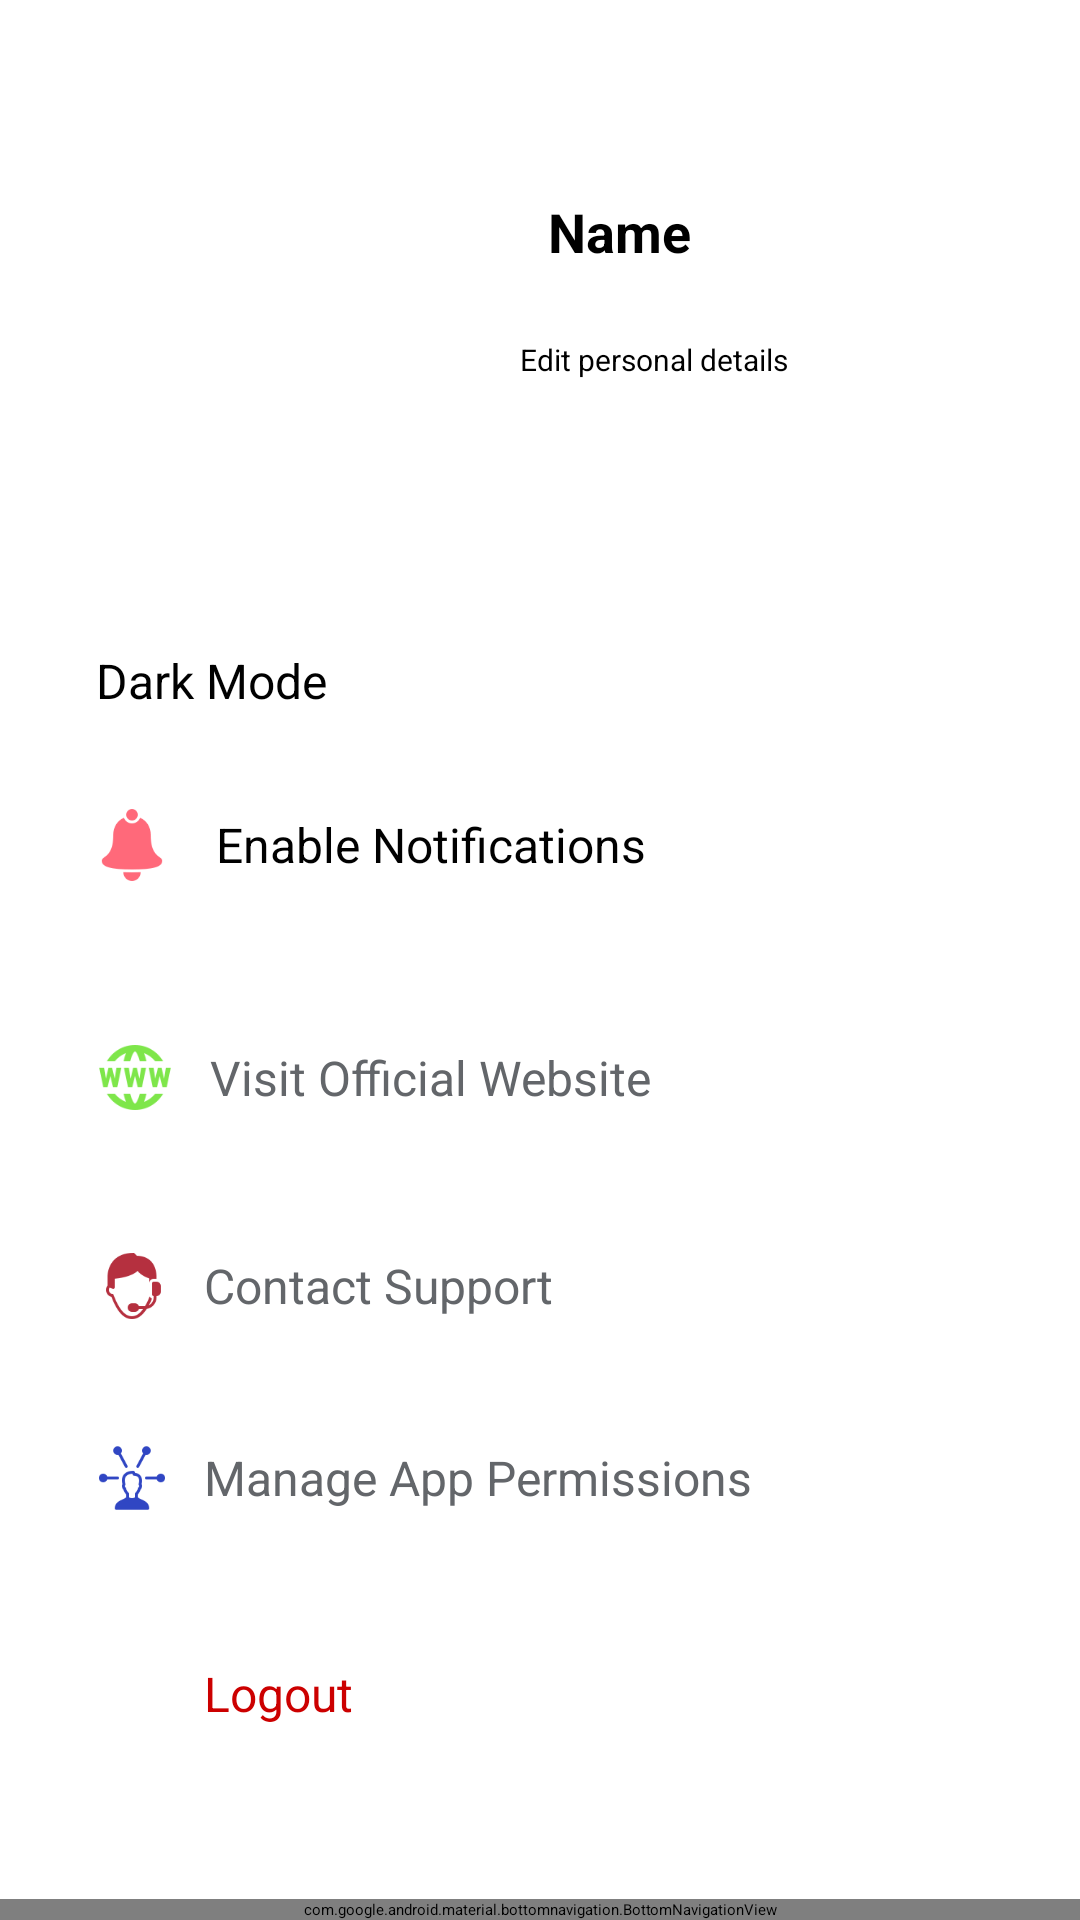

Screen size 1080x1920. Icon name, then its center in pixels as [x,y]:
notify: [132,845]
web: [135,1077]
